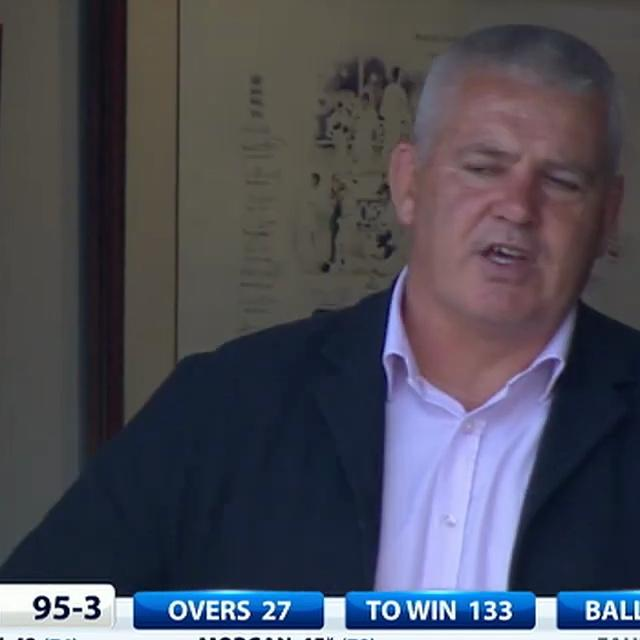person: (0, 13, 640, 599)
